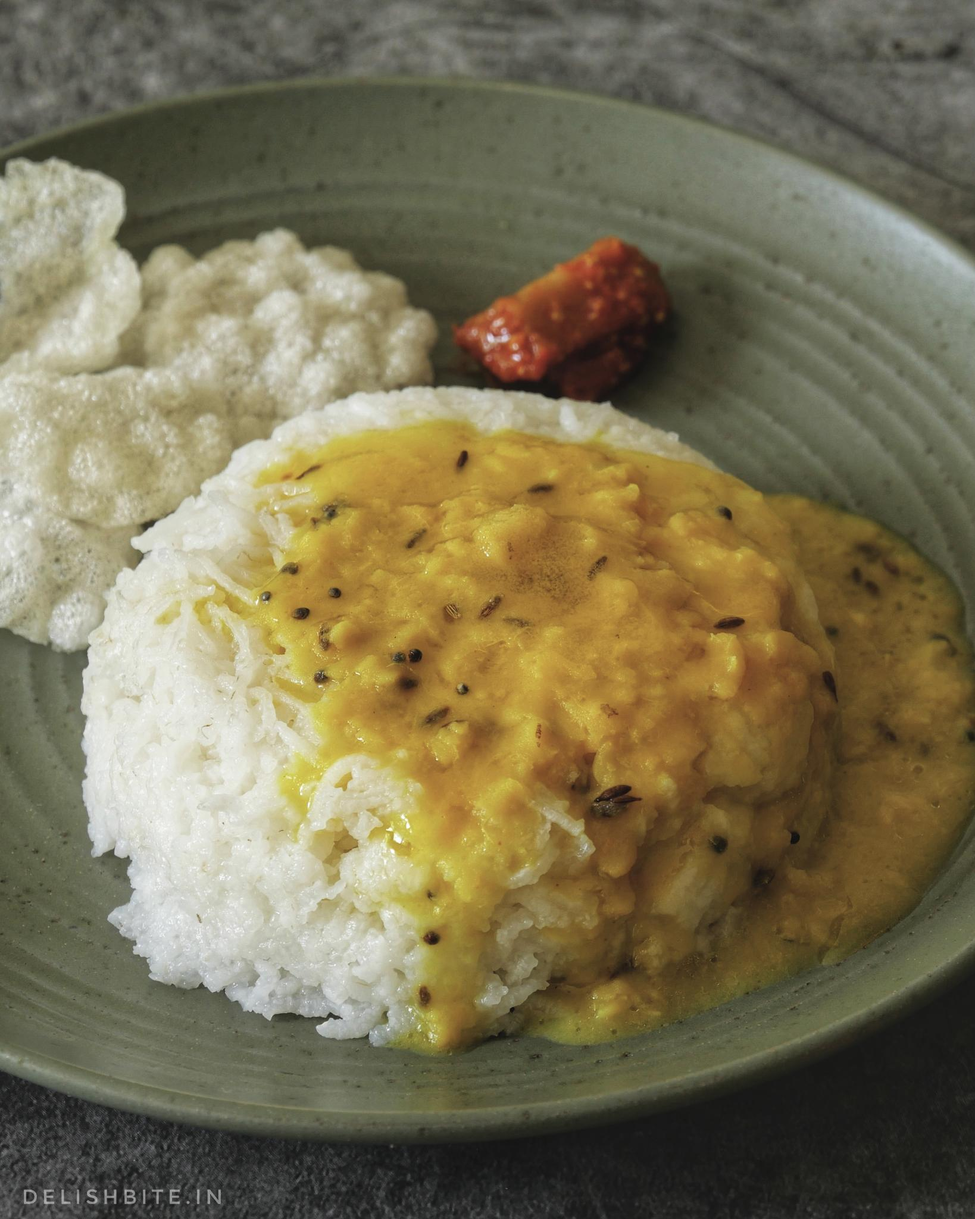rice: (76, 412, 546, 1117)
varan: (315, 462, 966, 1025)
